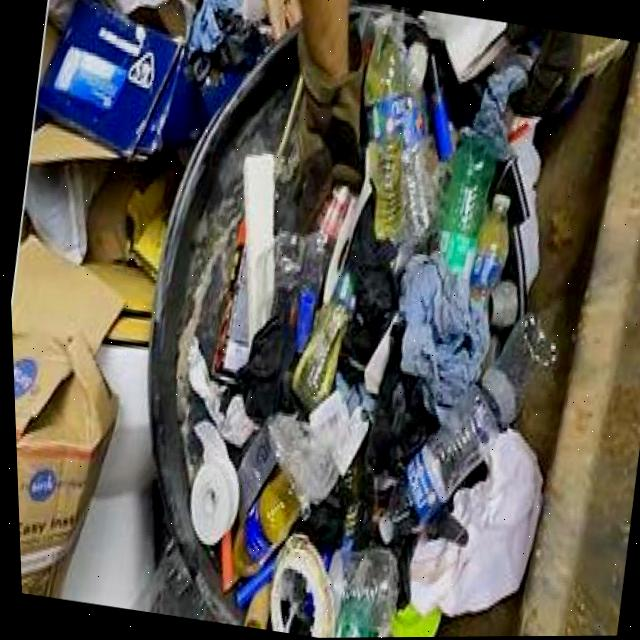Garbage: (173, 14, 554, 638), (505, 24, 628, 122)
Metal: (233, 426, 271, 521), (430, 53, 441, 101)
Plastic: (348, 323, 434, 549), (334, 193, 398, 385), (264, 533, 330, 638), (418, 495, 463, 546), (386, 532, 413, 610), (316, 185, 349, 240), (291, 287, 314, 352), (291, 287, 314, 352), (487, 280, 514, 326), (433, 99, 452, 161), (453, 461, 484, 489)
Plastic_Straw: (272, 74, 303, 173)
Plastic_bottle: (374, 386, 509, 543), (362, 15, 406, 240), (215, 471, 296, 592), (289, 272, 352, 412), (479, 313, 554, 428), (395, 42, 437, 244), (437, 137, 494, 275), (324, 546, 392, 631), (467, 194, 508, 306), (337, 446, 361, 549)
Rubber: (294, 31, 363, 228), (508, 25, 626, 120), (233, 317, 297, 424), (290, 478, 343, 567)
Thermocol: (405, 430, 538, 615)
